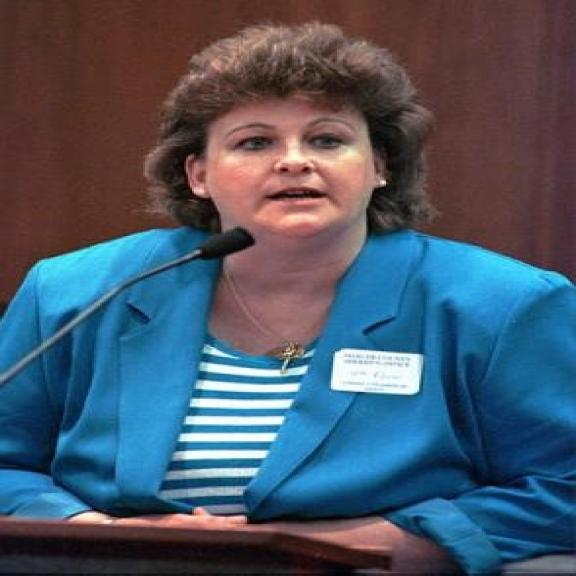face: (184, 87, 399, 239)
